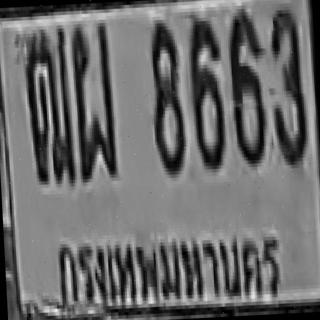A18: (22, 27, 74, 184)
A28: (69, 19, 117, 180)
N03: (266, 3, 307, 162)
N06: (226, 5, 266, 164), (186, 15, 224, 168)
N08: (147, 19, 186, 172)
P04: (48, 222, 292, 318)
